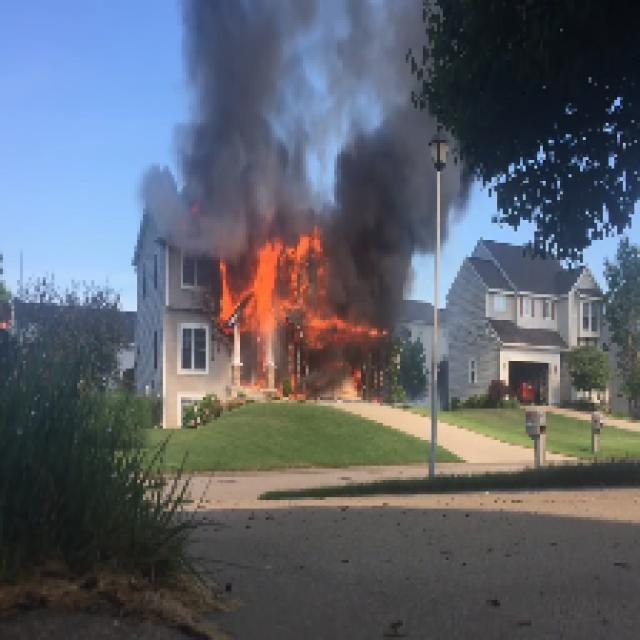Fire: (217, 234, 340, 343)
Smoke: (143, 3, 326, 220), (341, 2, 428, 292)
